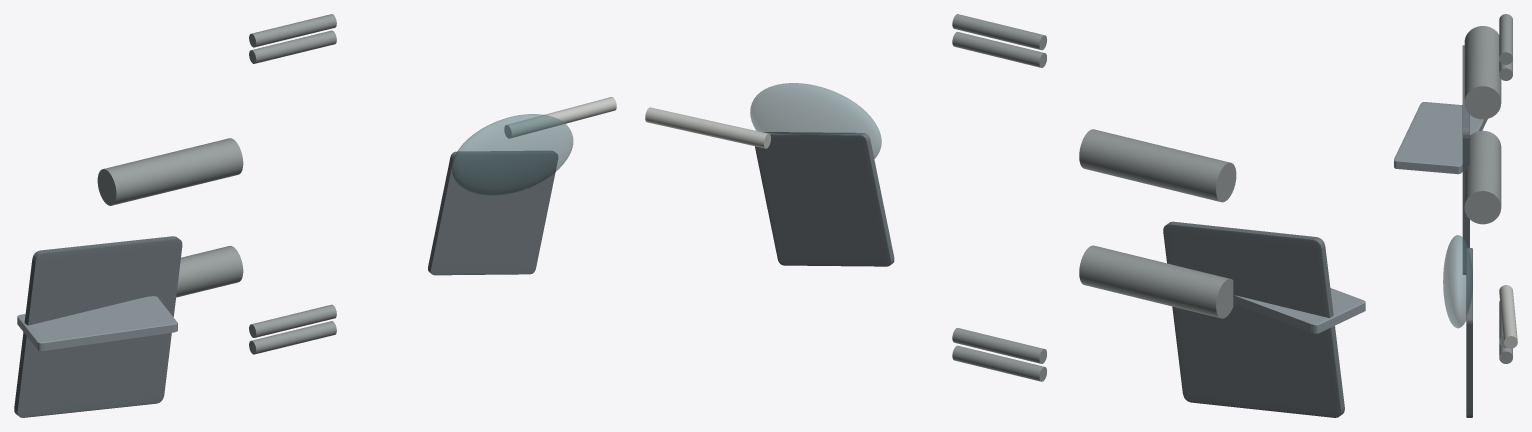
The model's file is s-x04-specter-aero-lod2.glb.
The picture shows the model from 3 angles, left to right: view 1: azimuth 30°, elevation 25°; view 2: azimuth 150°, elevation 25°; view 3: azimuth 270°, elevation 25°; orthographic projection. The views are drawn at different scales.
Visible parts, largest first — view 1: combat_tailplane_-1, canard_-1, combat_canopy, combat_engine_1, combat_fin_-1, combat_engine_0, combat_gun_barrel_0, combat_-1_tube_1, combat_-1_tube_2, combat_1_tube_2, combat_1_tube_1; view 2: combat_tailplane_-1, canard_-1, combat_engine_1, combat_engine_0, combat_canopy, combat_fin_-1, combat_gun_barrel_0, combat_-1_tube_1, combat_1_tube_2, combat_1_tube_1, combat_-1_tube_2; view 3: combat_fin_-1, combat_engine_1, combat_engine_0, combat_canopy, canard_-1, combat_tailplane_-1, combat_gun_barrel_0, combat_1_tube_2, combat_1_tube_1, combat_-1_tube_1, combat_-1_tube_2.
Boxes of the visible parts, x1,y1,x2,y2 form: combat_tailplane_-1: [14, 236, 182, 417]; canard_-1: [428, 151, 557, 275]; combat_canopy: [451, 114, 573, 195]; combat_engine_1: [97, 138, 243, 205]; combat_fin_-1: [17, 296, 177, 350]; combat_engine_0: [176, 245, 243, 297]; combat_gun_barrel_0: [504, 97, 616, 138]; combat_-1_tube_1: [249, 321, 336, 354]; combat_-1_tube_2: [249, 304, 336, 337]; combat_1_tube_2: [249, 14, 336, 47]; combat_1_tube_1: [249, 30, 336, 63]; combat_tailplane_-1: [1163, 221, 1344, 417]; canard_-1: [755, 132, 894, 266]; combat_engine_1: [1079, 129, 1236, 202]; combat_engine_0: [1079, 245, 1233, 318]; combat_canopy: [750, 83, 881, 158]; combat_fin_-1: [1233, 288, 1365, 333]; combat_gun_barrel_0: [645, 107, 770, 148]; combat_-1_tube_1: [952, 345, 1046, 381]; combat_1_tube_2: [952, 14, 1046, 50]; combat_1_tube_1: [952, 31, 1046, 67]; combat_-1_tube_2: [952, 328, 1046, 363]; combat_fin_-1: [1394, 102, 1487, 174]; combat_engine_1: [1464, 26, 1501, 119]; combat_engine_0: [1464, 130, 1501, 224]; combat_canopy: [1443, 235, 1472, 328]; canard_-1: [1466, 248, 1472, 417]; combat_tailplane_-1: [1462, 45, 1469, 274]; combat_gun_barrel_0: [1499, 285, 1517, 348]; combat_1_tube_2: [1499, 14, 1512, 64]; combat_1_tube_1: [1499, 60, 1512, 80]; combat_-1_tube_1: [1499, 344, 1512, 363]; combat_-1_tube_2: [1499, 301, 1506, 347].
Size of what is drawn, in the model's own units: 15.56 by 7.78 by 2.76.
